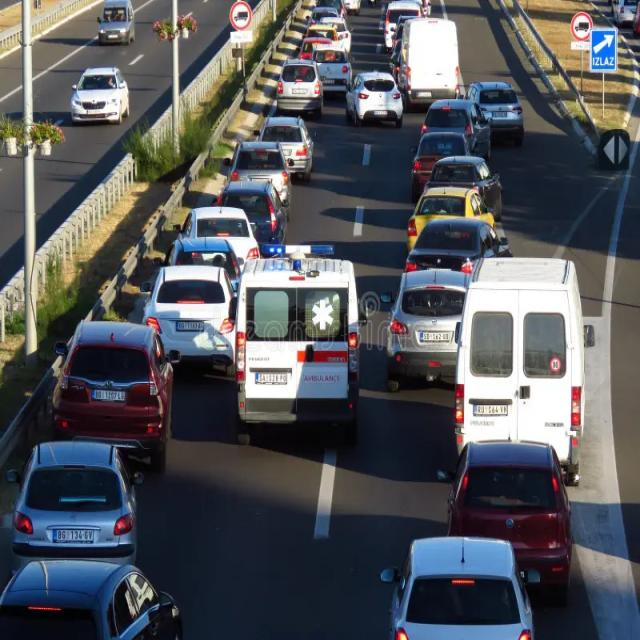ambulance: (220, 226, 365, 467)
